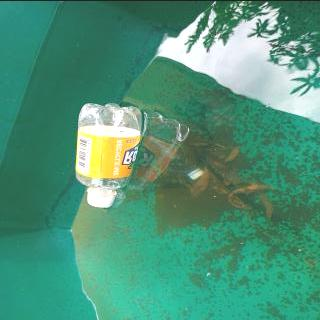bottle: (70, 101, 146, 209)
